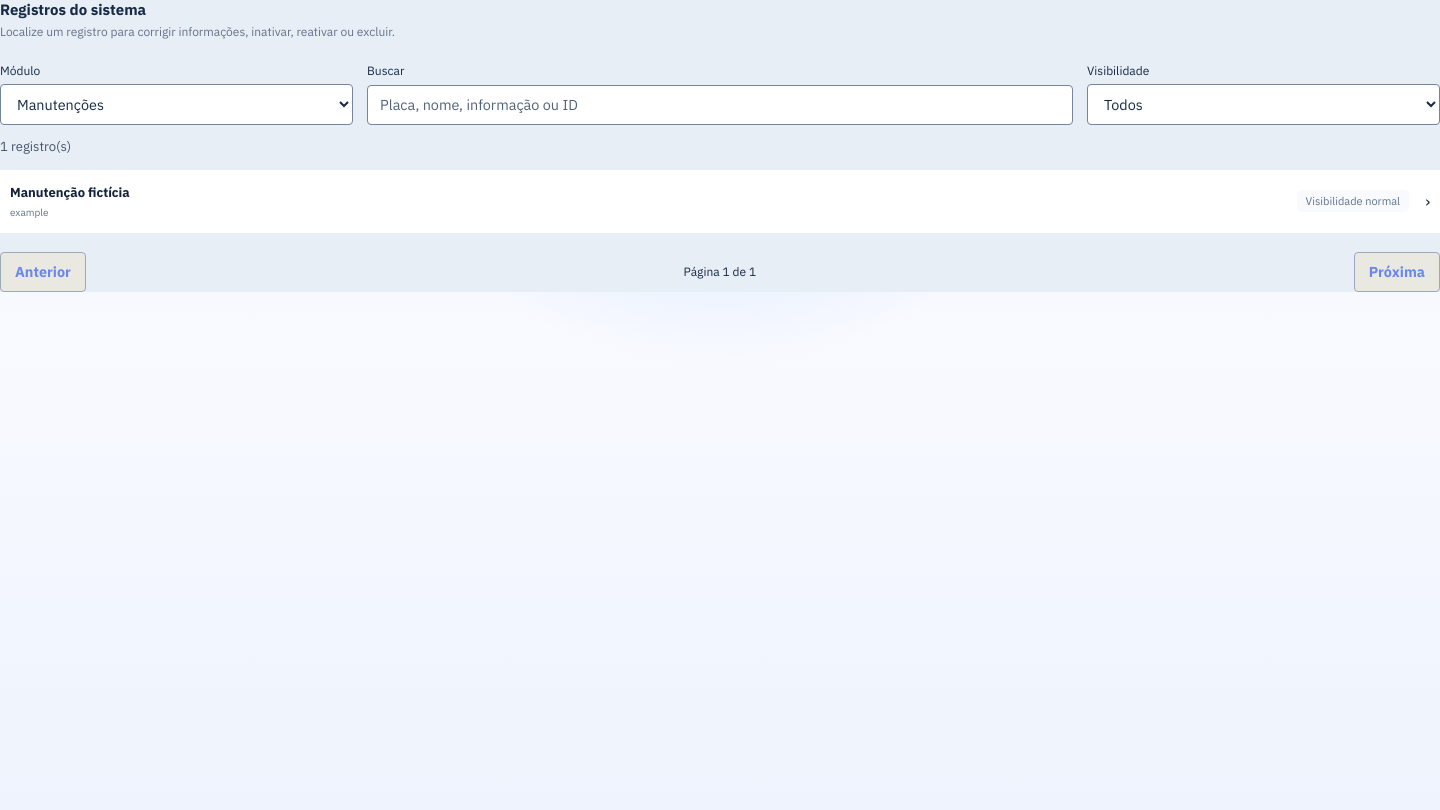
Test: oferece repetição quando o histórico falha em vez de afirmar que não existe histórico
The image size is (1440, 810).
Click the button "Manutenção fictícia example Visibilidade normal ›" at (70, 192), box [0,170,1439,234]
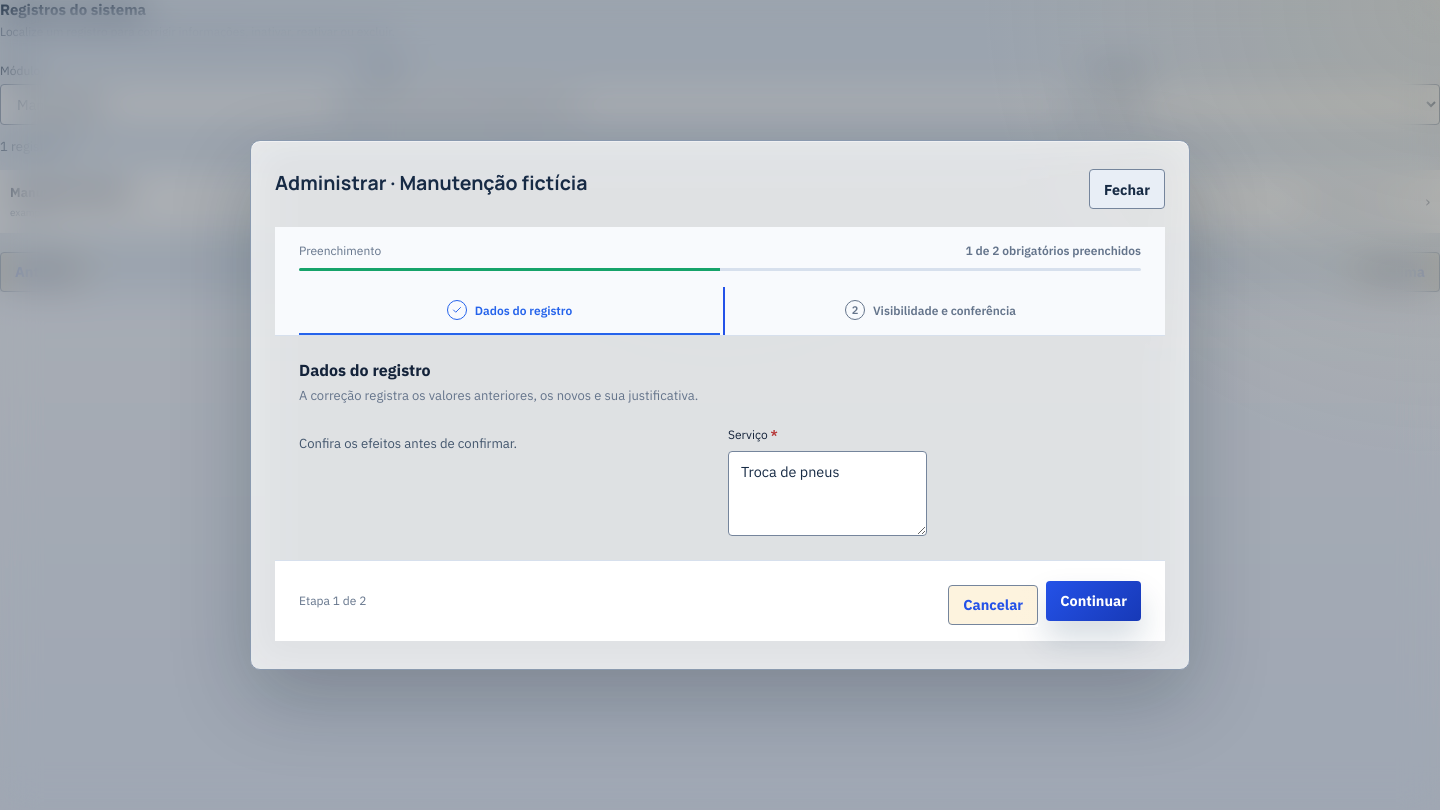
Click the button "Continuar" at (1094, 601), box [1046,581,1141,621]
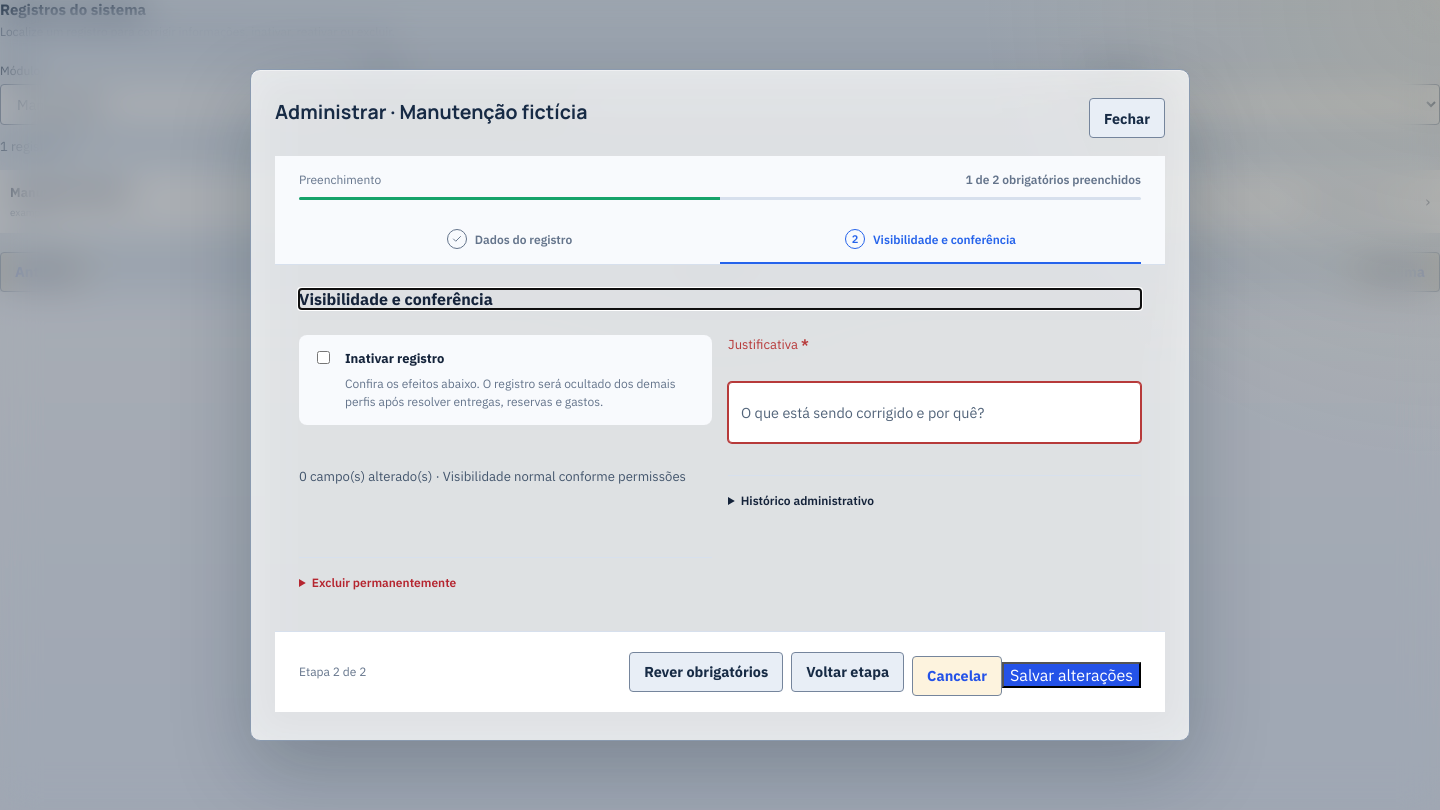
Click the heading "Histórico administrativo" at (807, 500), box [741,493,874,508]
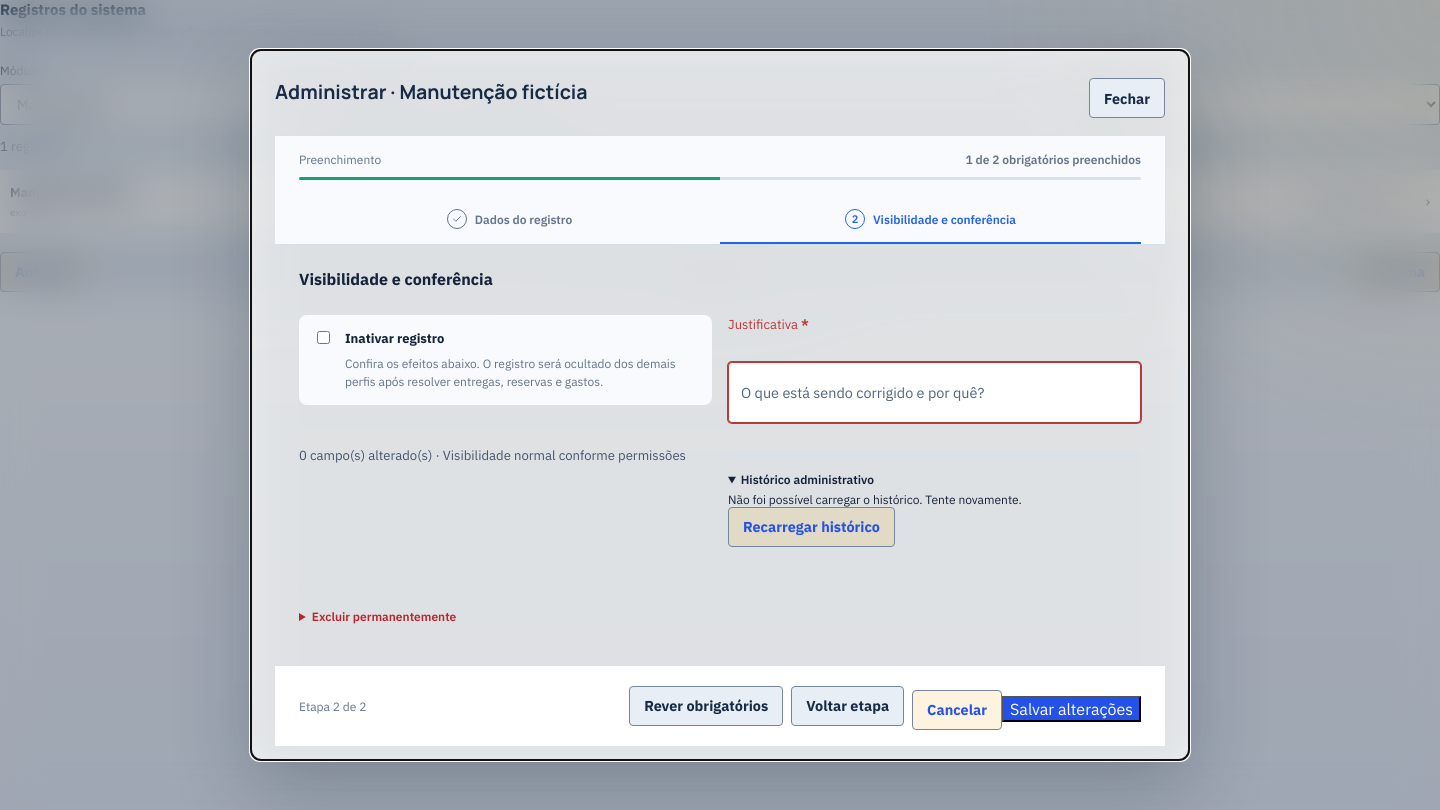
Expected: the button "Recarregar histórico" is shown, [728,507,895,547]
